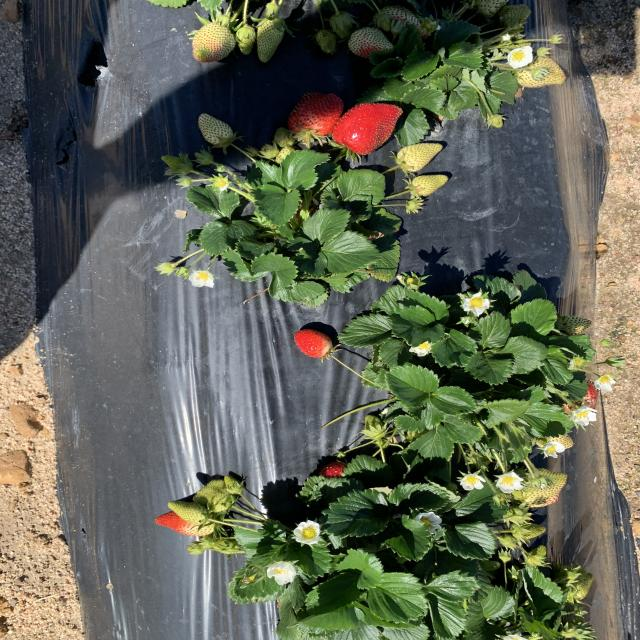unripe: (334, 101, 408, 153), (284, 90, 341, 132), (154, 508, 218, 536), (558, 377, 603, 416), (292, 328, 334, 357), (318, 460, 347, 481)
